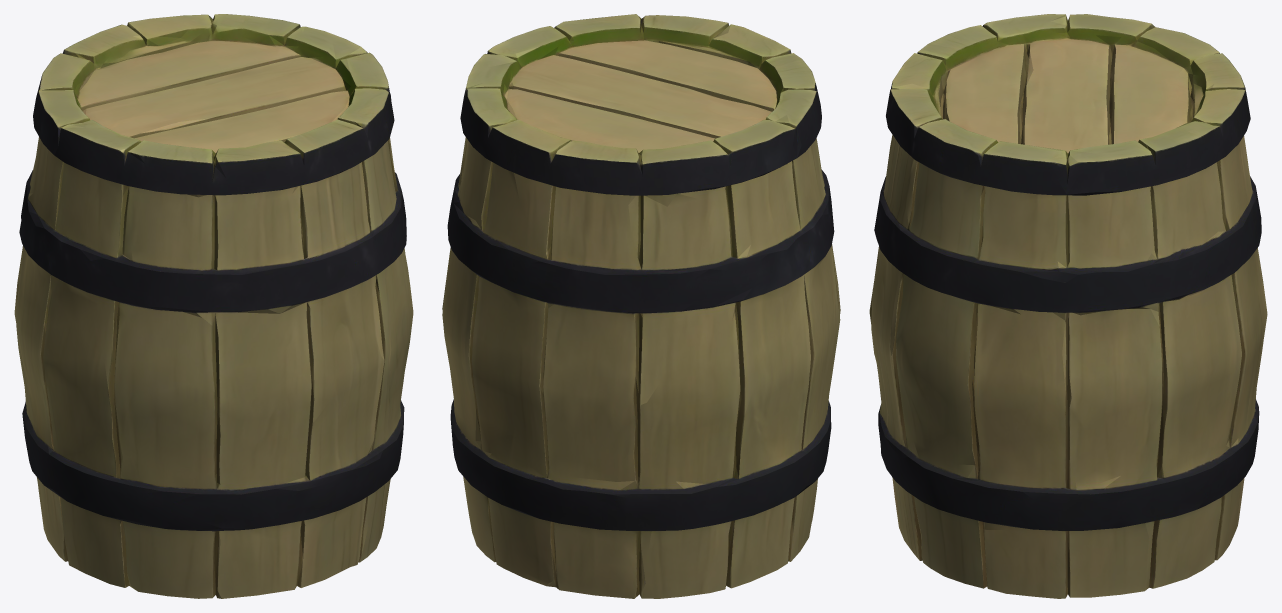
3 renders of one model, left to right at view 1: azimuth 30°, elevation 25°; view 2: azimuth 150°, elevation 25°; view 3: azimuth 270°, elevation 25°, orthographic.
Visible parts, largest first — view 1: Mesh; view 2: Mesh; view 3: Mesh.
Boxes of the visible parts, <box> form: Mesh: <box>14,14,413,598</box>; Mesh: <box>442,14,840,598</box>; Mesh: <box>869,14,1267,598</box>.
Size of the model in its own units: 1.55 by 1.9 by 1.56.
1 material, 1 textured.
